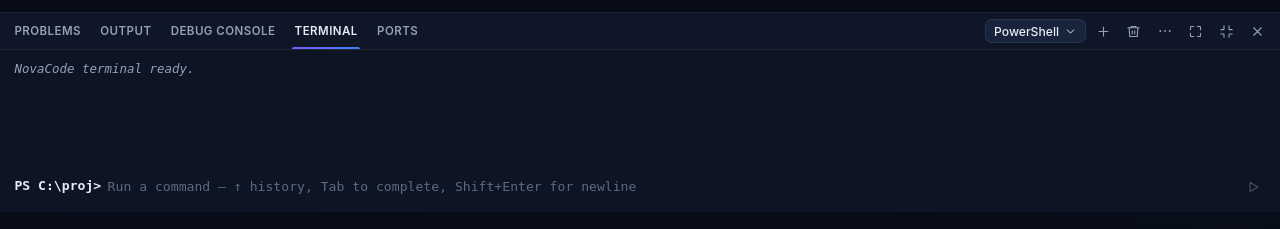
Test: TerminalPanel interactive shell › cd moves the working directory without spawning a process
Type "cd src" into the text box named "Terminal command" at (671, 187), box [108,175,1234,199]
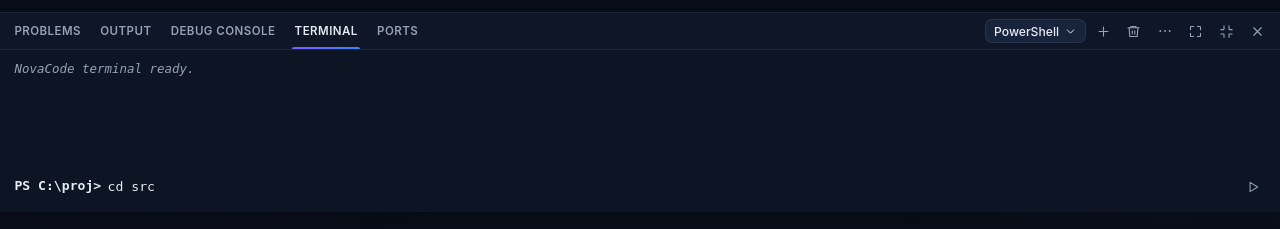
Press Enter
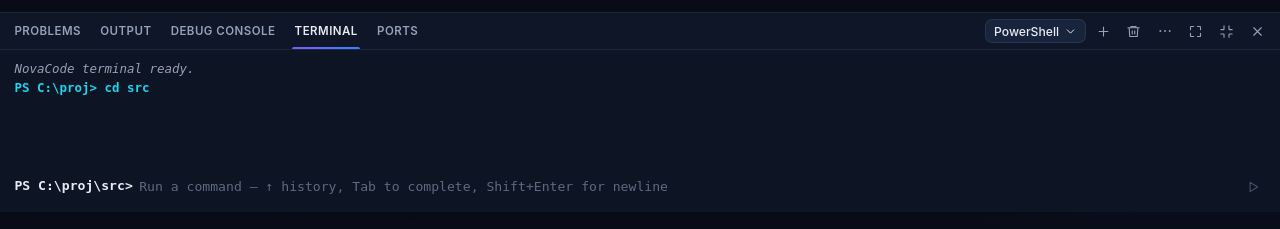
Expected: the text "PS C:\\proj\\src>" is shown, [14,175,133,196]
